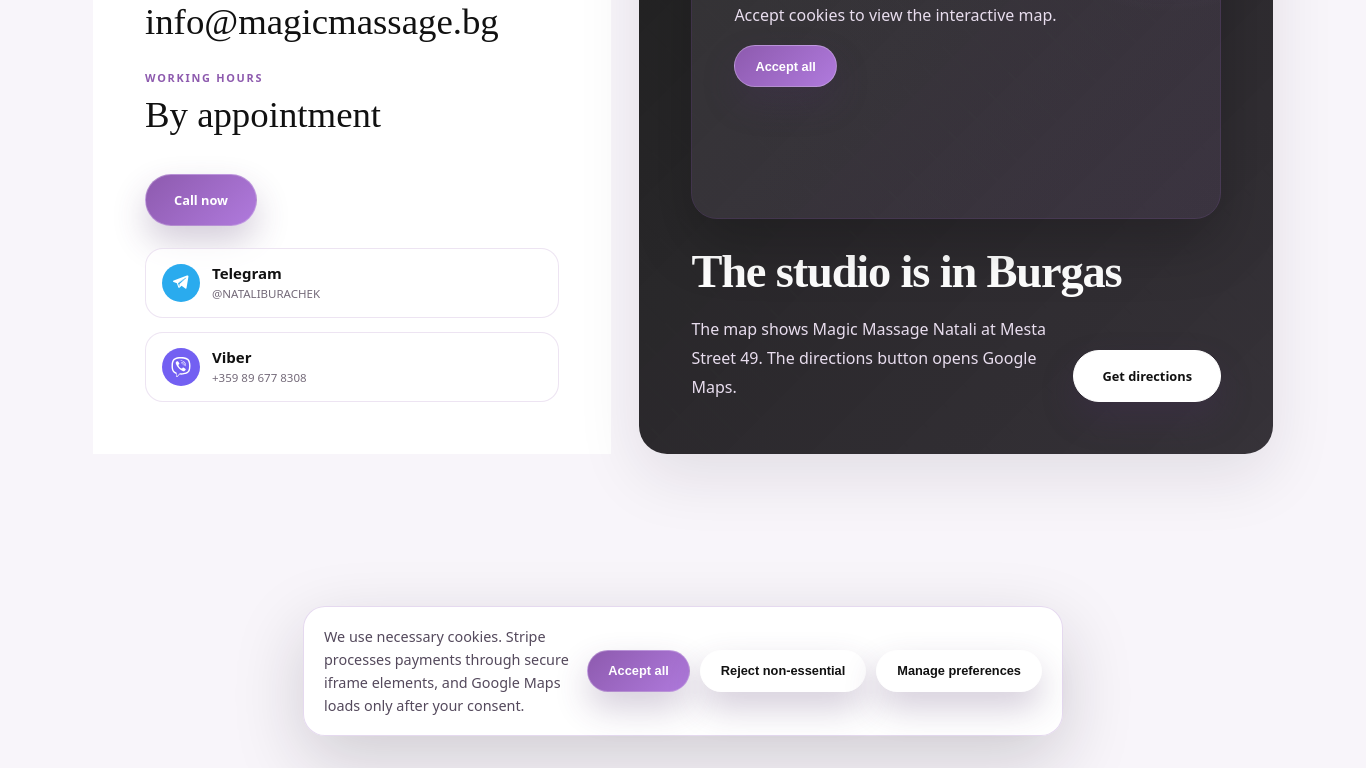
Test: localized public page views › keeps Google Maps gated when non-essential cookies are rejected
(page scrolled)
Click the button "Reject non-essential".
click(783, 671)  # box 700,650 -> 866,692
(page scrolled)
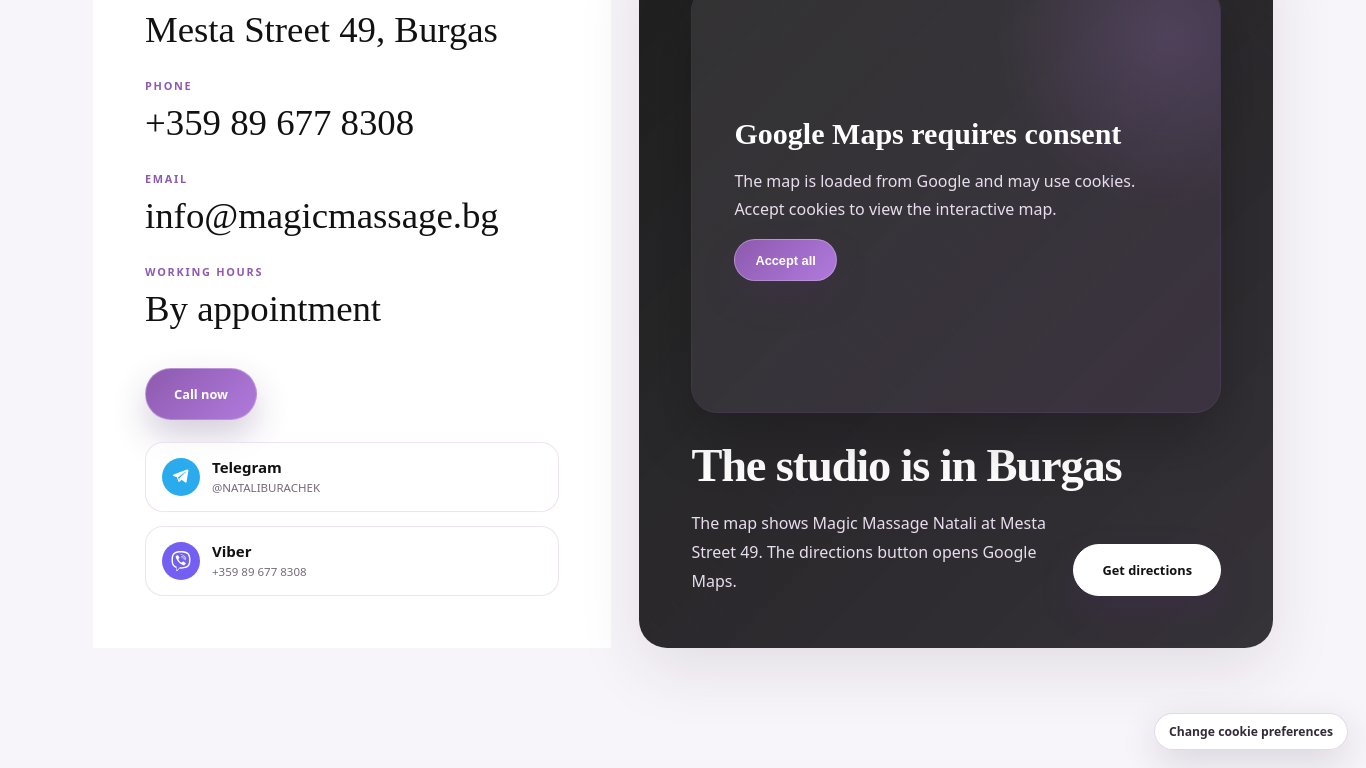
Now the button "Change cookie preferences" is shown, box 1154,713 -> 1348,750
